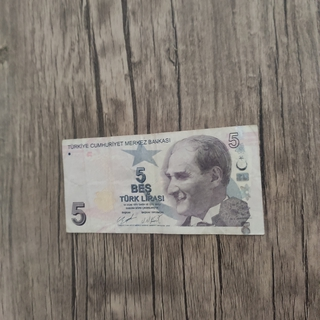5TLFront: (61, 125, 266, 236)
